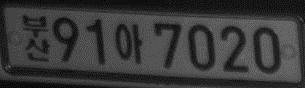0: (252, 26, 280, 74), (187, 23, 215, 70)
1: (84, 19, 110, 64)
2: (221, 24, 248, 72)
7: (154, 22, 182, 69)
9: (51, 15, 79, 62)
부산_V: (21, 14, 50, 62)
아: (114, 22, 143, 63)
